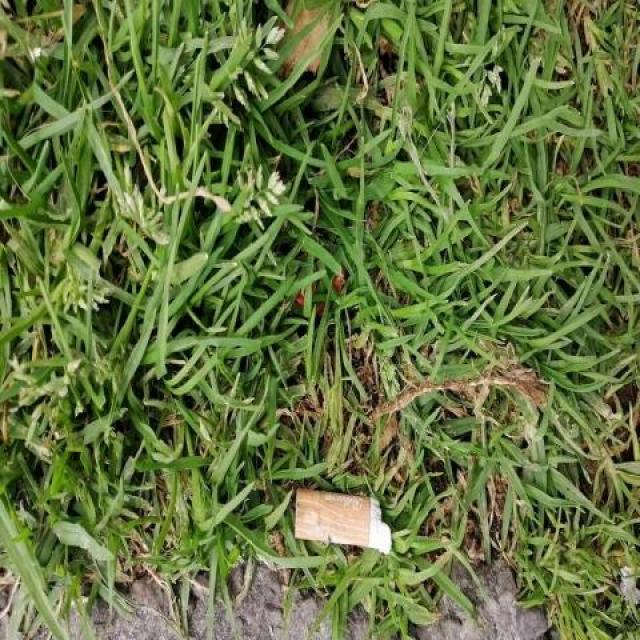non-organic waste: (289, 481, 395, 556)
